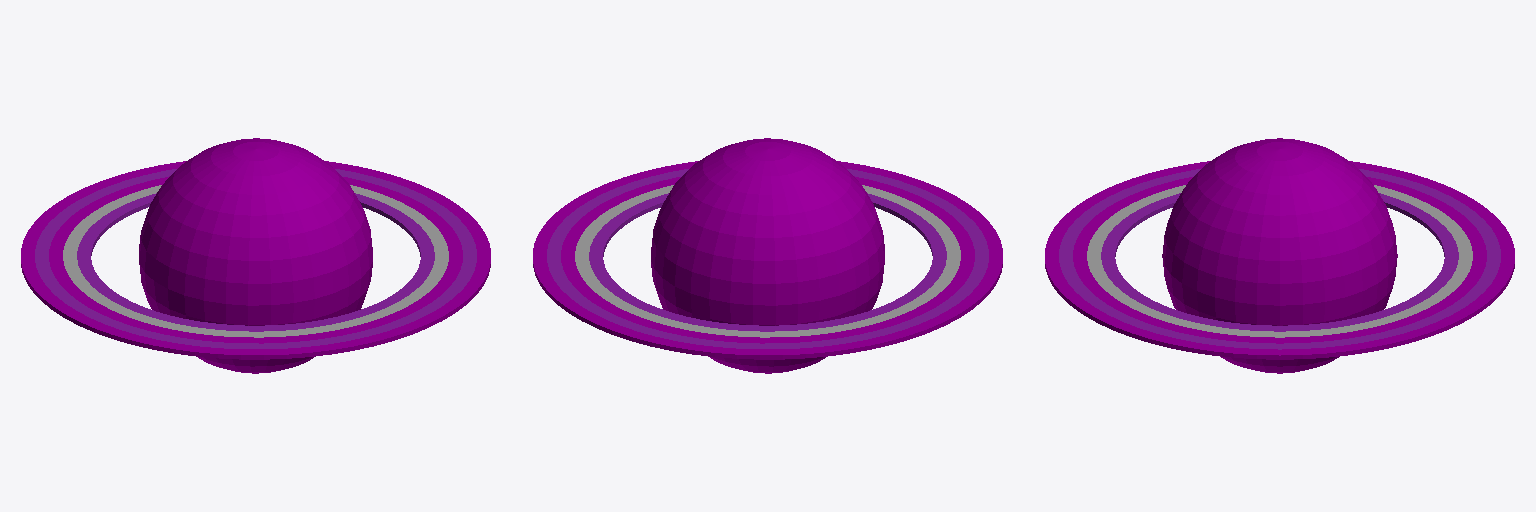
Rendered from Planet.obj.
3 renders of one model, left to right at view 1: azimuth 30°, elevation 25°; view 2: azimuth 150°, elevation 25°; view 3: azimuth 270°, elevation 25°, orthographic.
Visible parts, largest first — view 1: Sphere; view 2: Sphere; view 3: Sphere.
Boxes of the visible parts, x1,y1,x2,y2 form: Sphere: [21, 138, 490, 373]; Sphere: [533, 138, 1002, 373]; Sphere: [1045, 138, 1514, 373].
Bounding box in the file's own units: 2 × 1 × 2.